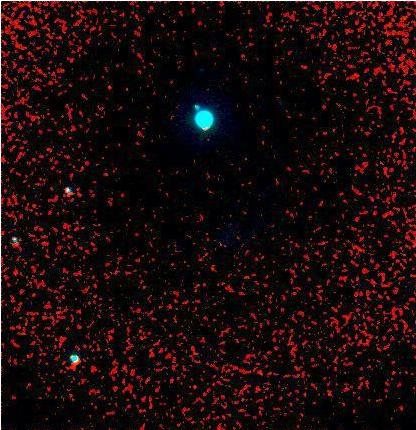star: (178, 228, 208, 258)
